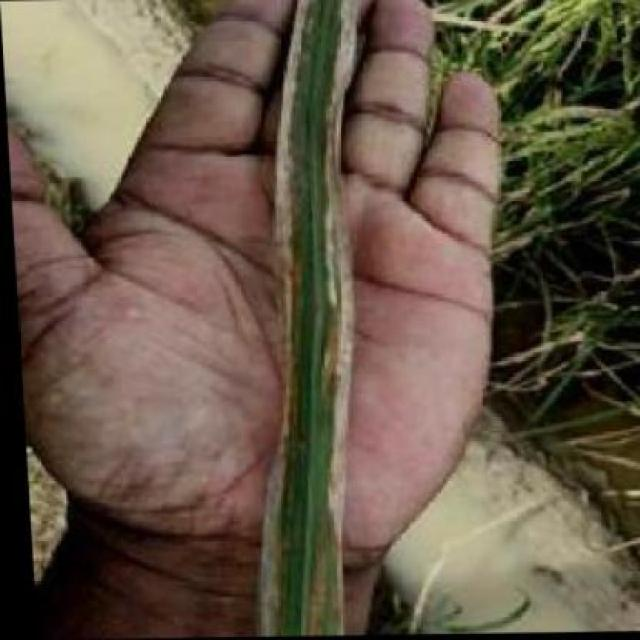Brown_Spot: (242, 0, 381, 626)
